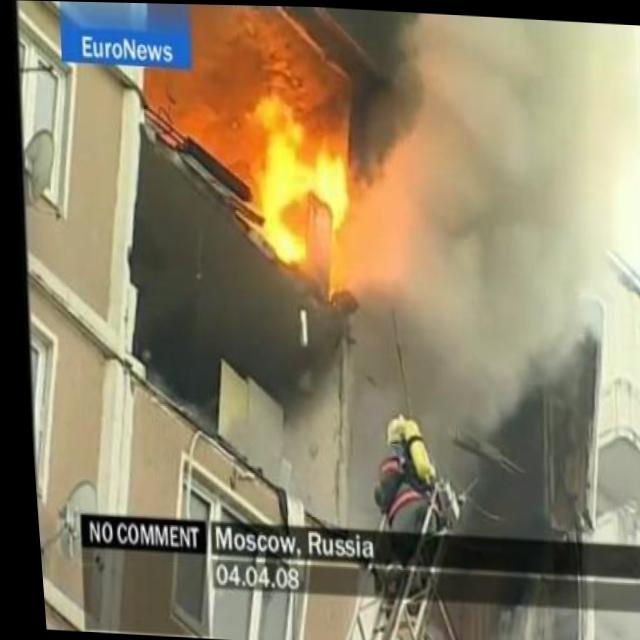fire: (227, 78, 359, 265)
